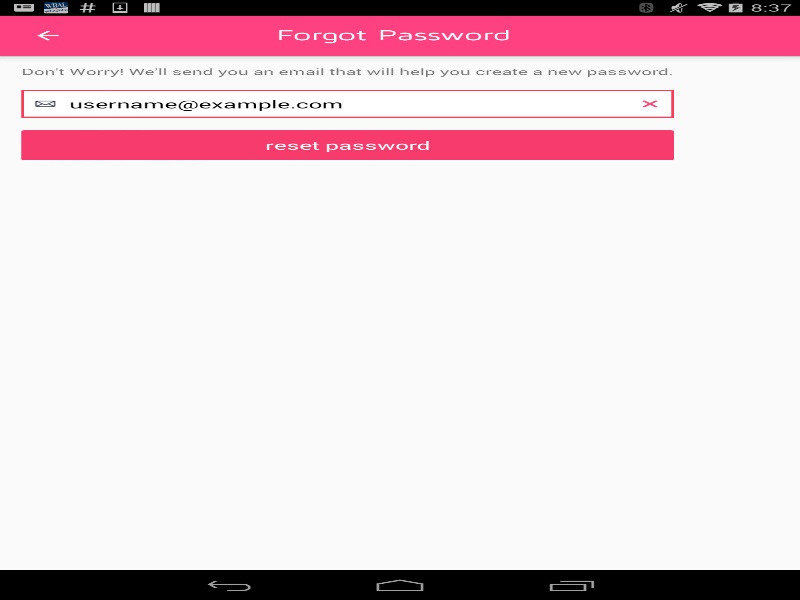Button: (21, 130, 674, 160), (10, 15, 85, 55)
Input: (21, 90, 674, 117)
